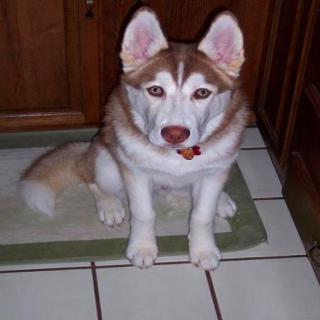dog: (116, 1, 255, 162)
nose: (160, 122, 192, 146)
